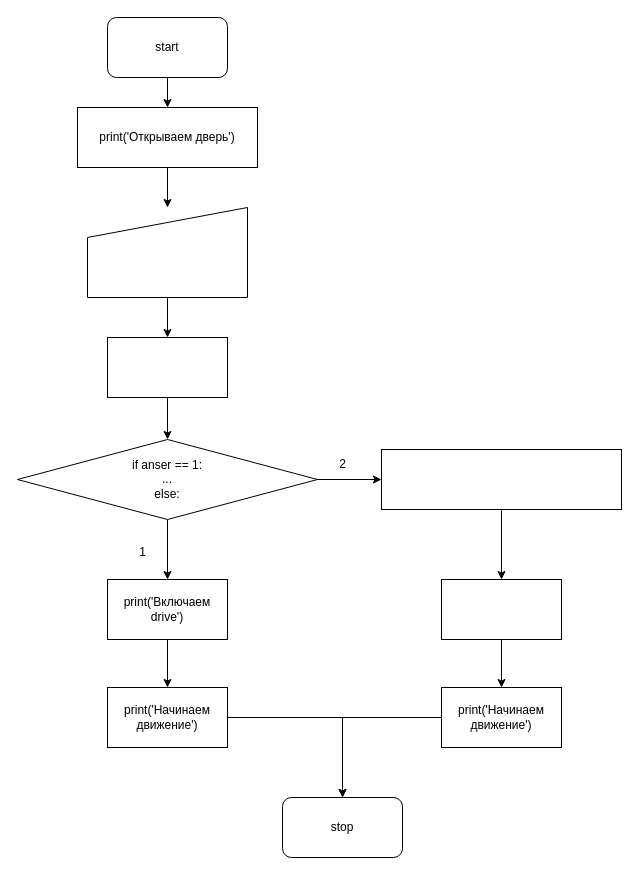
The diagram is 639 pixels wide and 875 high, and some of its shapes have lost their labels. Each missing label, with the box of its shape:
answer=input('У вас 1 : 1. автомат\n2. механика?'): (86, 206, 248, 298)
print('Выжимаем сцепление и включаем первую передачу'): (380, 448, 622, 510)
print('Заводим машину'): (106, 336, 228, 398)
print('Отпускаем сцепление'): (440, 578, 562, 640)
